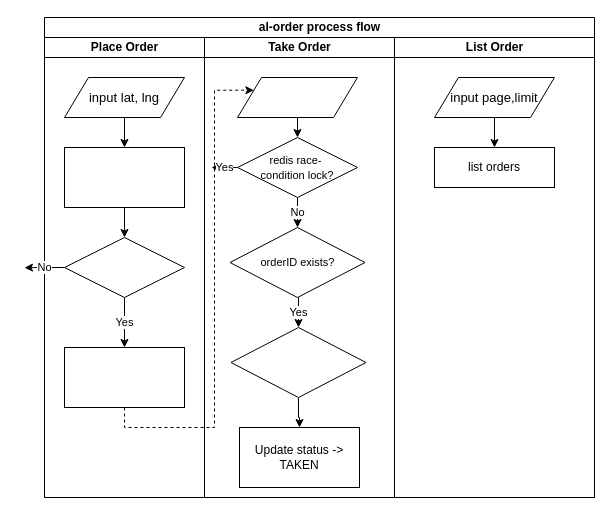
The diagram is 612 pixels wide and 515 high, and some of its shapes have lost their labels. Each missing label, with the centre of its shape:
get distance?: (124,267)
input orderID: (297,97)
request Google Map Direction API: (124,177)
status = "Unassigned"?: (298,362)
Store Order to DB: (124,377)
